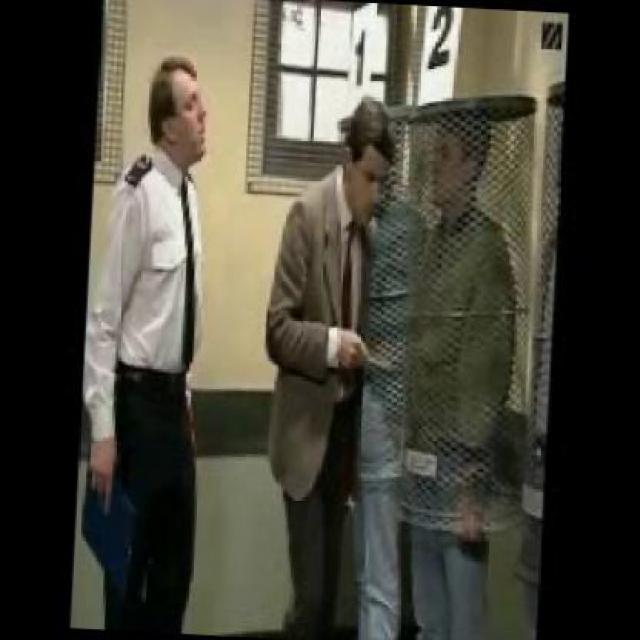non-fight: (75, 51, 231, 632), (243, 91, 392, 638)
